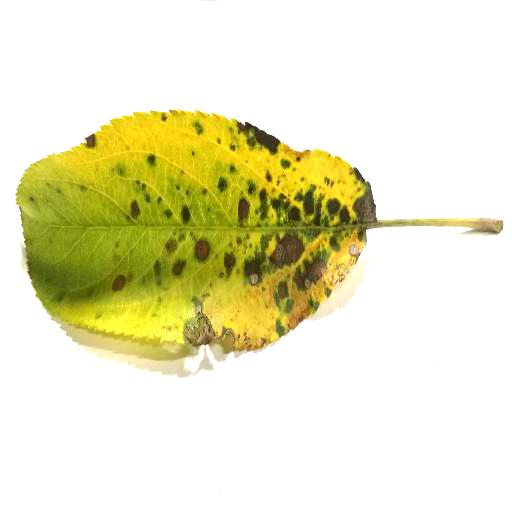Brown_Spot: (236, 180, 374, 225), (239, 229, 328, 293), (100, 255, 136, 302), (230, 193, 250, 224), (193, 232, 210, 262), (129, 197, 151, 220)
